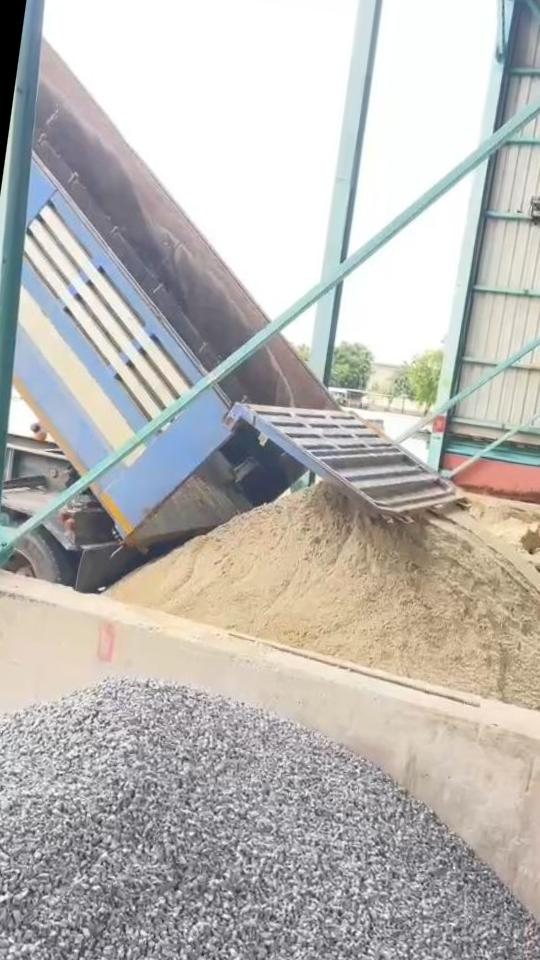gravel: (0, 679, 540, 960)
sand: (110, 485, 540, 715), (488, 517, 540, 564)
